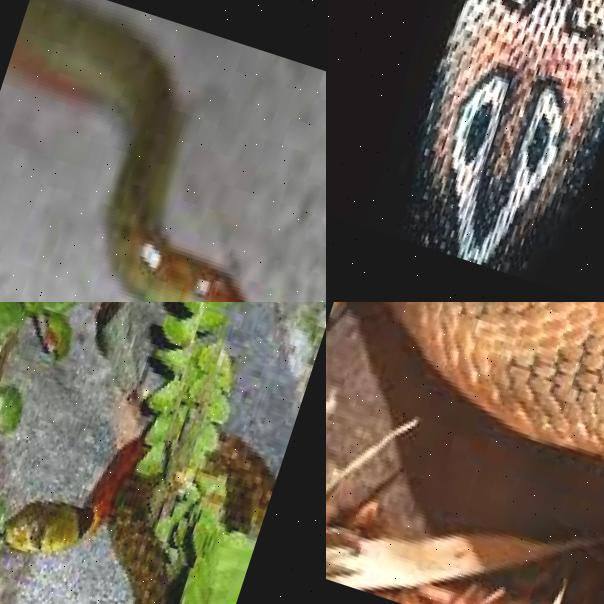snake: (0, 0, 326, 302), (0, 310, 284, 604), (326, 302, 604, 594), (363, 0, 604, 294)
